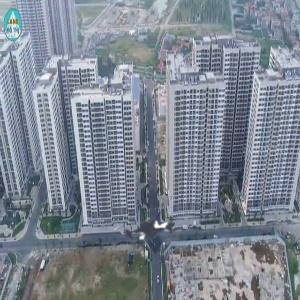drone: (103, 183, 197, 277)
